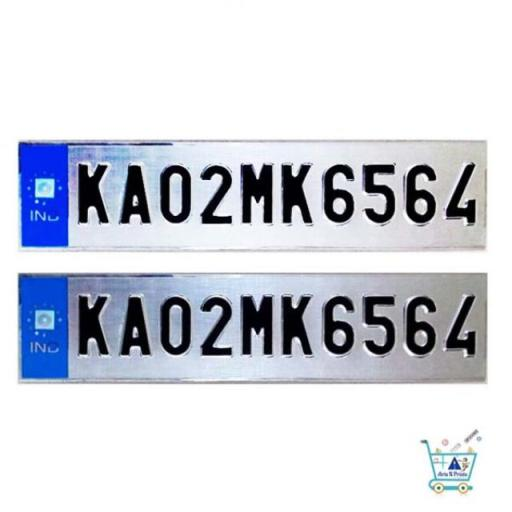number plate: (16, 136, 491, 254), (17, 270, 492, 387)
